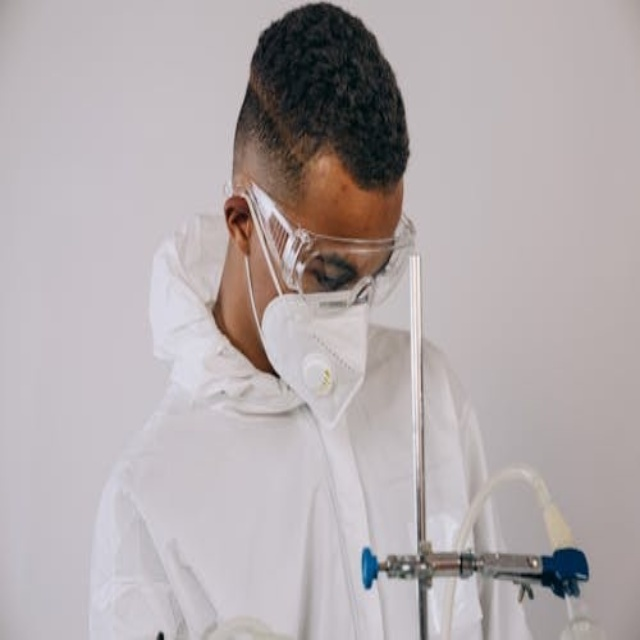Gafas: (231, 176, 413, 306)
Mascara: (257, 278, 373, 428)
